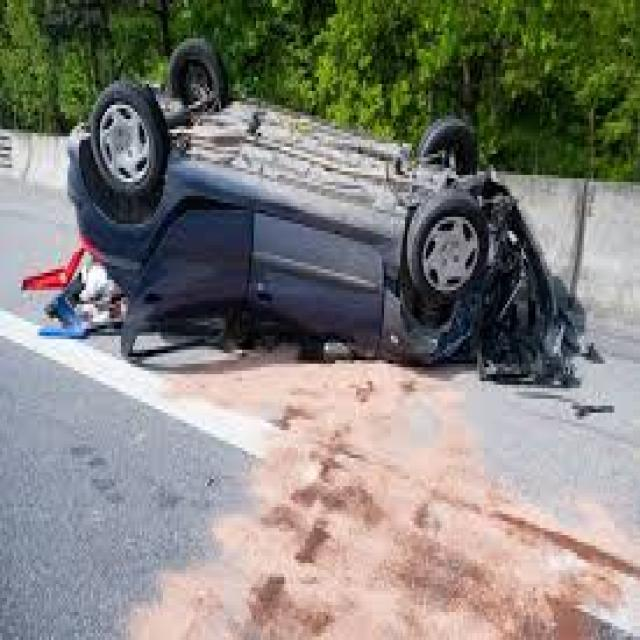car-serious-accident: (56, 36, 592, 428)
